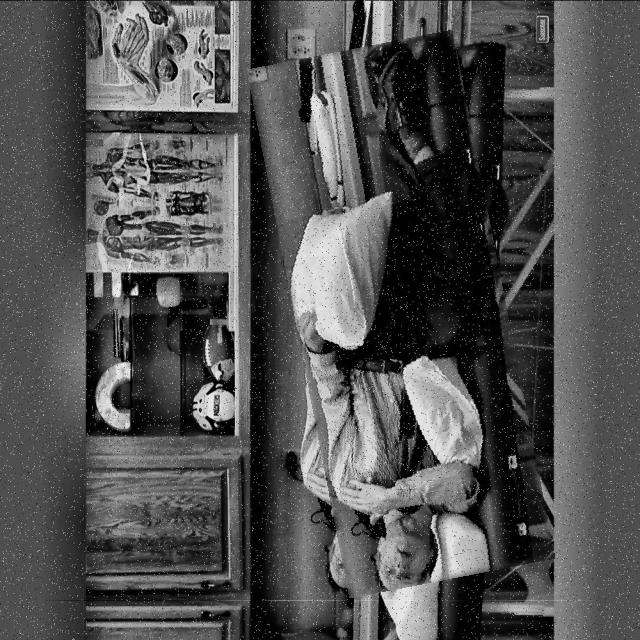Not_Supine: (296, 41, 505, 591)
